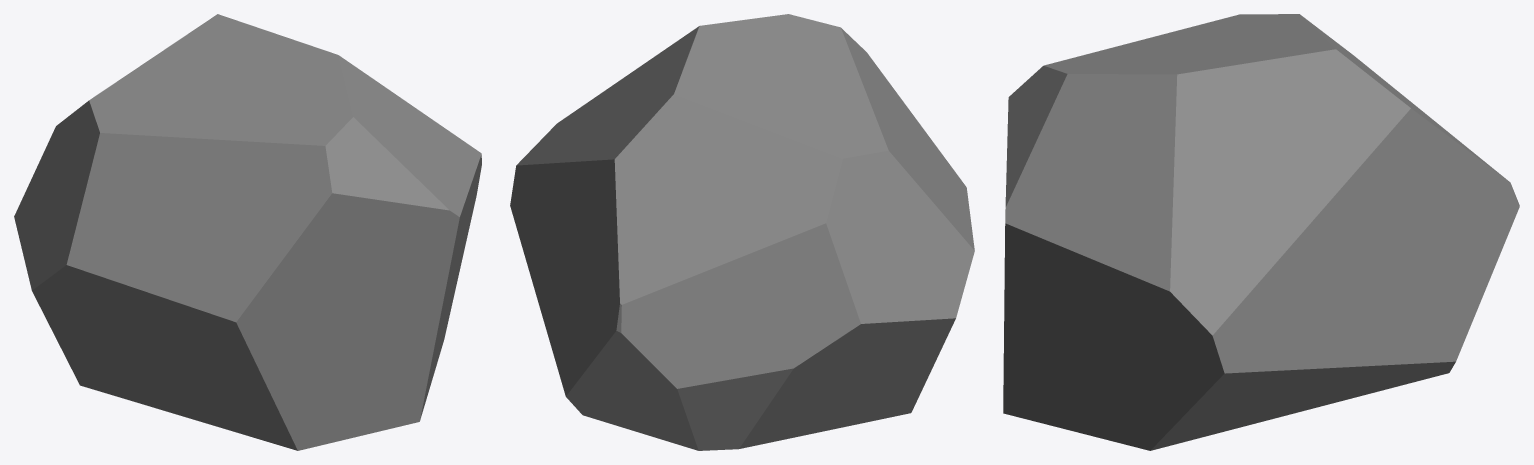
File: Rock7.fbx
3 views of the same model, side by side, from view 1: azimuth 30°, elevation 25°; view 2: azimuth 150°, elevation 25°; view 3: azimuth 270°, elevation 25° (orthographic). The views are drawn at different scales.
Parts seen in each view (by area): view 1: Cube.011; view 2: Cube.011; view 3: Cube.011.
Boxes of the visible parts, x1,y1,x2,y2 form: Cube.011: (14, 14, 481, 450); Cube.011: (510, 14, 974, 450); Cube.011: (1003, 14, 1519, 450).
Bounding box in the file's own units: 2033 × 1379 × 1907.
